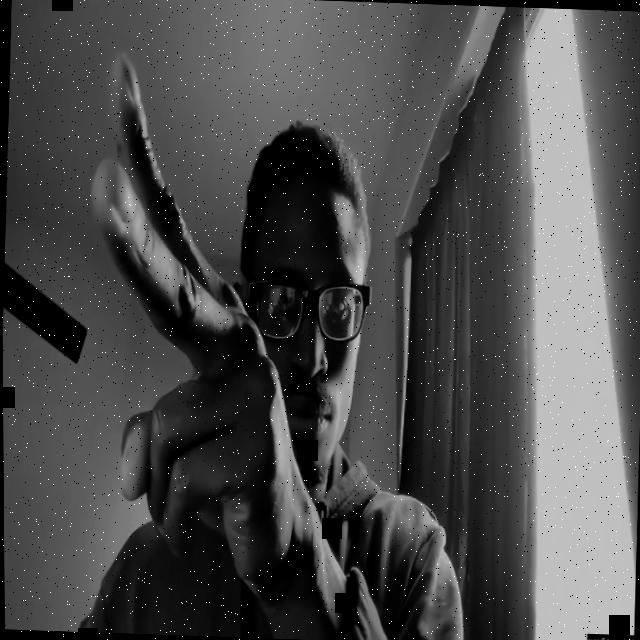Scissors: (76, 49, 319, 592)
